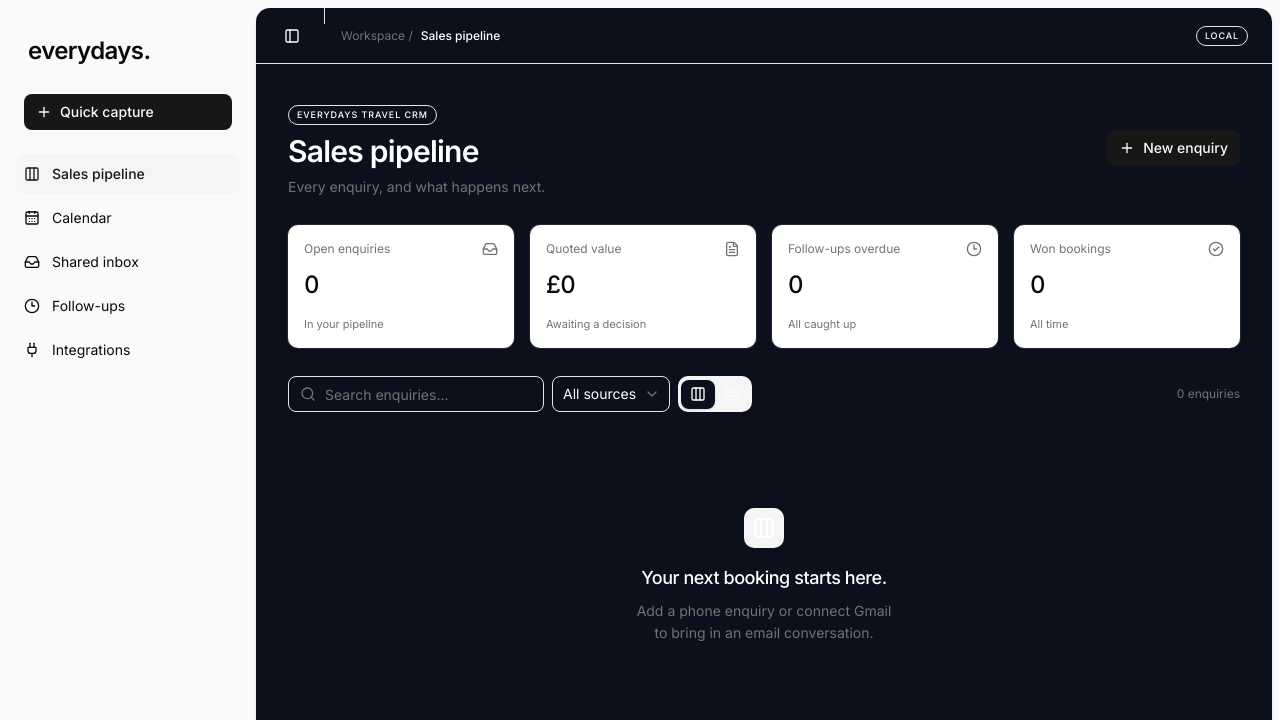
Test: loads an honest empty workspace and opens quick enquiry capture
This screenshot has width=1280, height=720.
Expected: the text "Your next booking starts here." is shown, [641,564,887,592]
Click the button "New enquiry".
click(1174, 148)  # box [1107,130,1240,166]
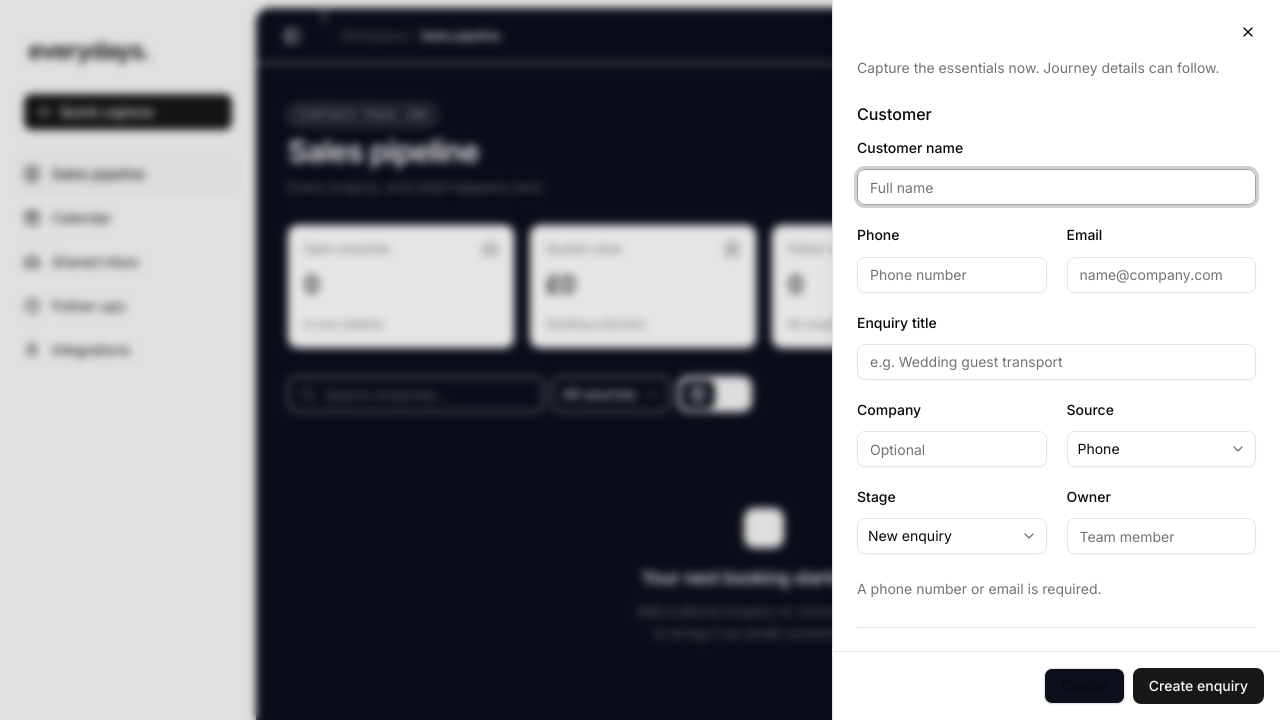
Result: the field labelled "Customer name" is shown at [857,169,1256,205]
Result: the field labelled "Phone" is shown at [857,256,1046,292]
